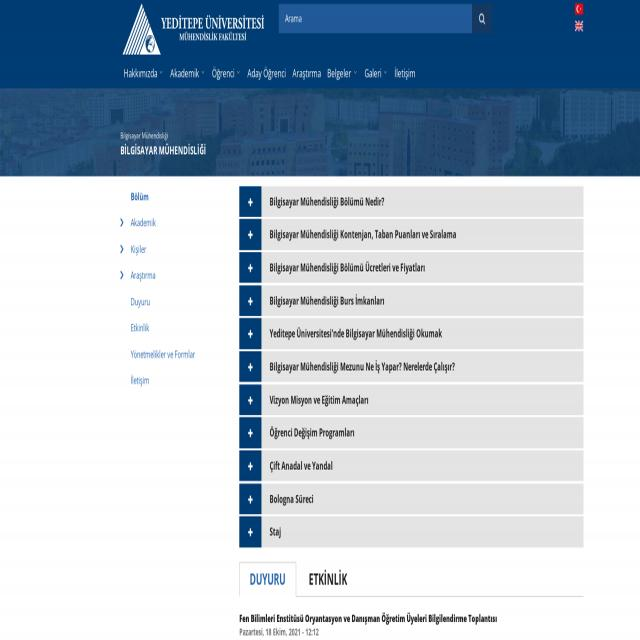button: (240, 186, 584, 217), (240, 417, 584, 448), (240, 516, 584, 547), (240, 351, 583, 382), (239, 451, 584, 481), (240, 252, 584, 282), (239, 484, 583, 514), (240, 319, 583, 349), (239, 220, 584, 249), (239, 286, 584, 315), (240, 385, 583, 413), (120, 0, 264, 58), (298, 562, 358, 596), (240, 562, 296, 596), (122, 58, 165, 89), (246, 58, 288, 89), (169, 58, 207, 89), (326, 58, 359, 89), (210, 58, 242, 89), (291, 58, 323, 89), (363, 58, 389, 89), (393, 58, 417, 89), (472, 4, 492, 33), (574, 1, 584, 18), (574, 18, 584, 35)
field: (279, 4, 492, 33)
